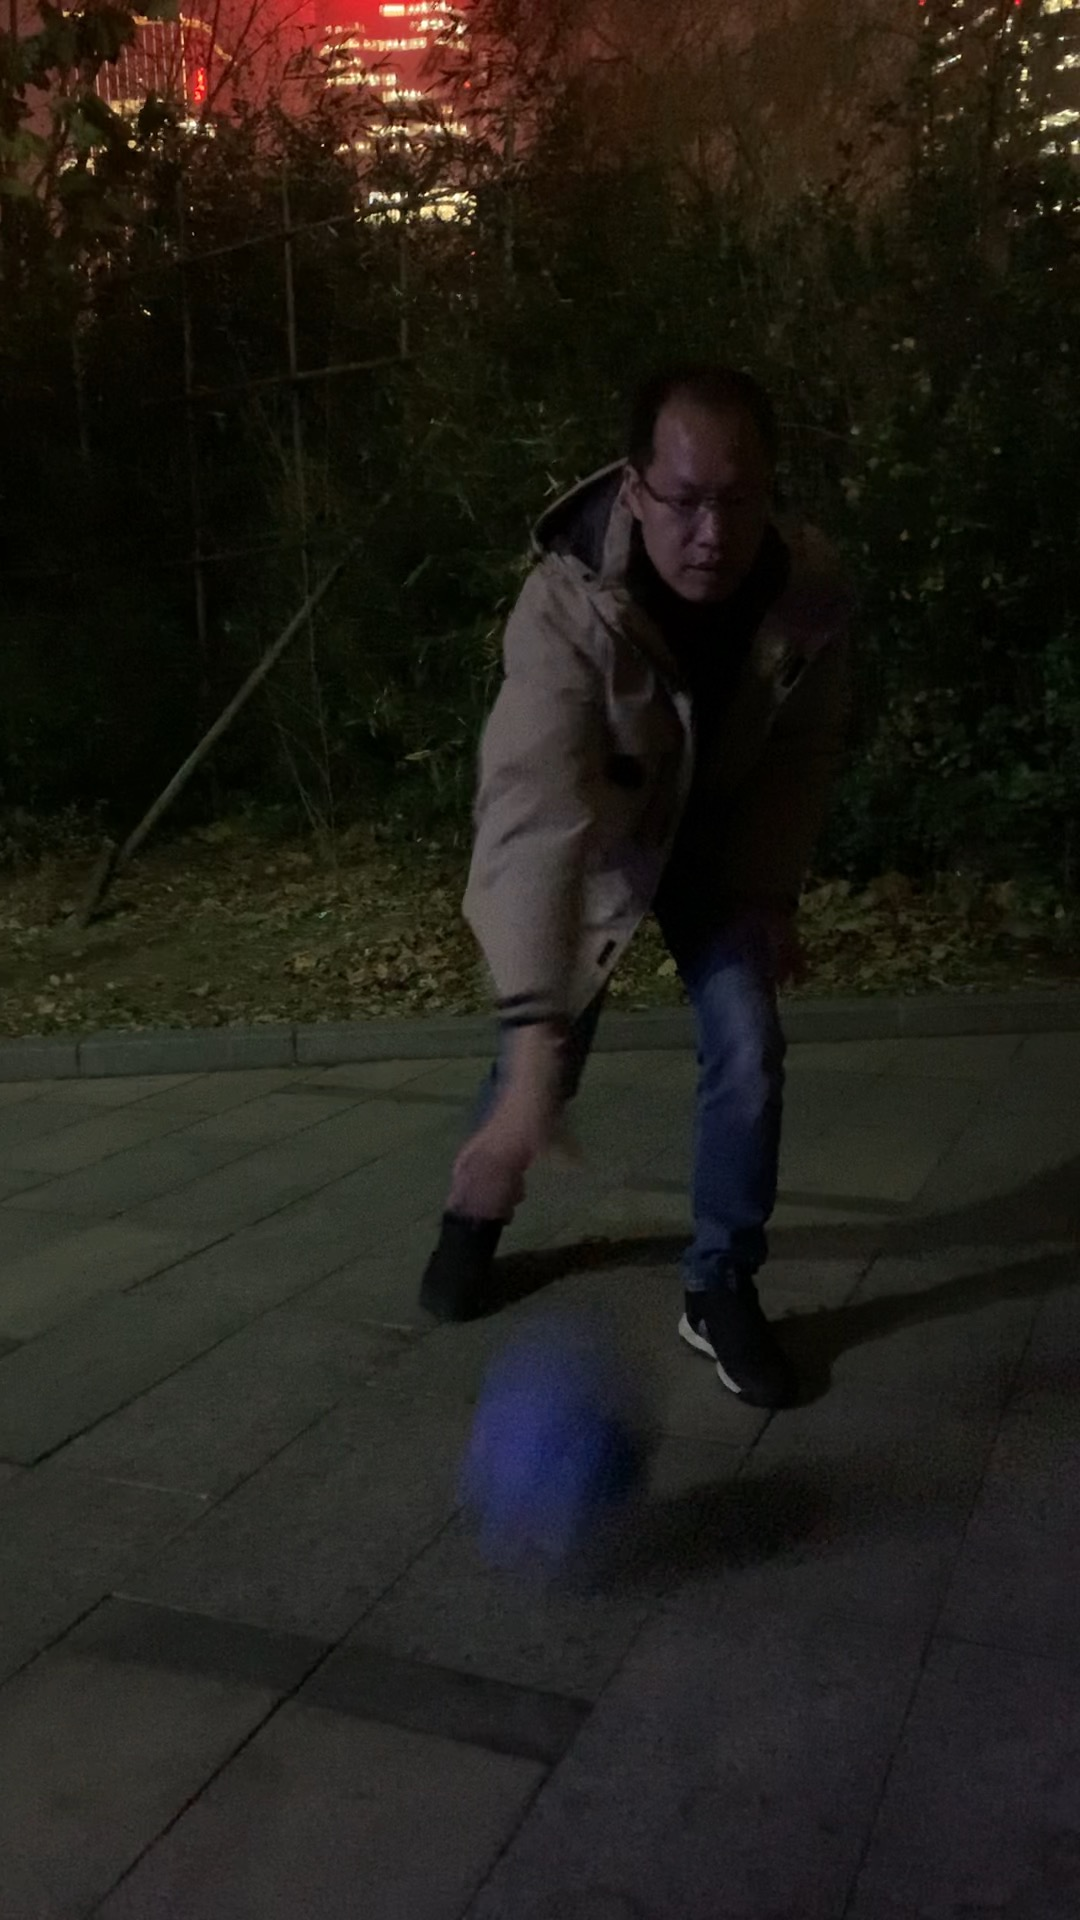ball: (467, 1365, 665, 1543)
